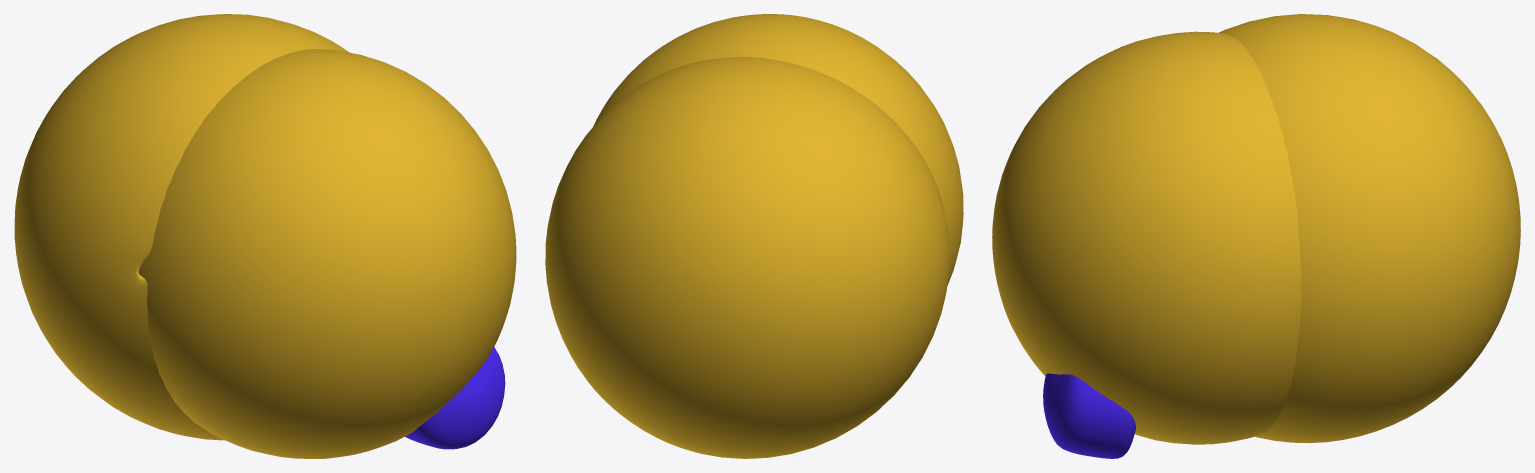
Rendered from sleepy FBX.glb.
3 views of the same model, side by side, from view 1: azimuth 30°, elevation 25°; view 2: azimuth 150°, elevation 25°; view 3: azimuth 270°, elevation 25° (orthographic). The views are drawn at different scales.
Parts seen in each view (by area): view 1: Group12533, Group29019, Group56543; view 2: Group29019, Group12533; view 3: Group12533, Group29019, Group56543.
Boxes of the visible parts, x1=… form: Group12533: x1=138, y1=49, x2=516, y2=458; Group29019: x1=14, y1=14, x2=349, y2=440; Group56543: x1=405, y1=347, x2=505, y2=449; Group29019: x1=545, y1=56, x2=949, y2=458; Group12533: x1=593, y1=14, x2=963, y2=285; Group12533: x1=992, y1=31, x2=1301, y2=444; Group29019: x1=1218, y1=14, x2=1520, y2=443; Group56543: x1=1043, y1=373, x2=1135, y2=458.
Size of the model in its own units: 0.5963 by 0.5613 by 0.6918.
